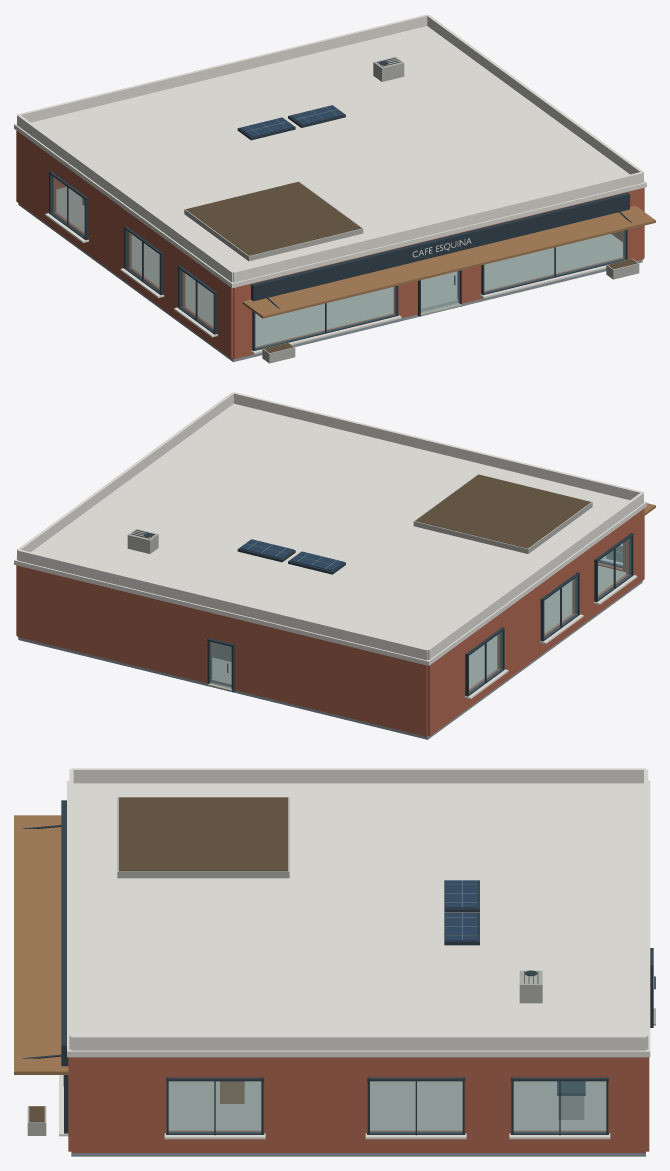
Rendered from Shop_1.fbx.
3 renders of one model, top to bottom at view 1: azimuth 30°, elevation 25°; view 2: azimuth 150°, elevation 25°; view 3: azimuth 270°, elevation 25°, orthographic. The views are drawn at different scales.
Parts seen in each view (by area): view 1: Shop_1.066; view 2: Shop_1.066; view 3: Shop_1.066.
Part boxes in pixels (x1,y1,x2,y2): Shop_1.066: (14,14,655,363); Shop_1.066: (14,392,655,739); Shop_1.066: (14,768,655,1156).
Size of the model in its own units: 22.87 by 4.87 by 22.35.
